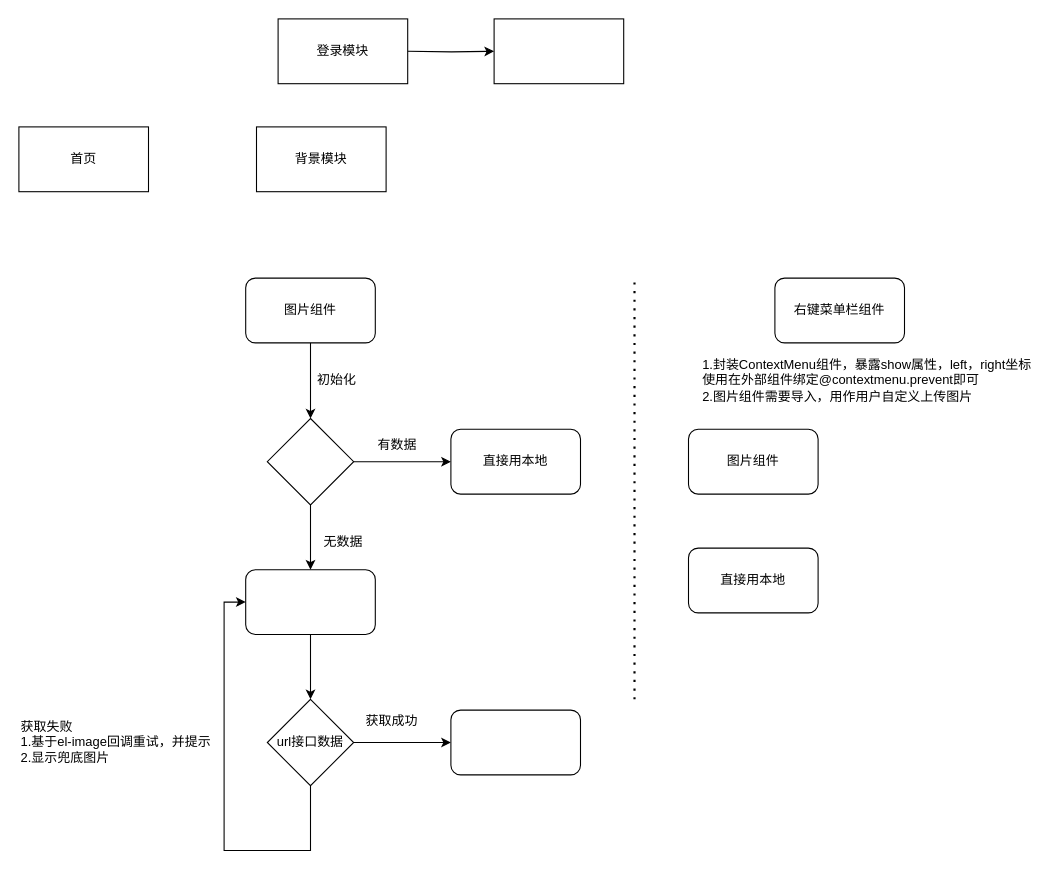
Some shapes in this 1064 by 878 pixel diagram are drawn without their labels. The centre of each missing label's shape, as x and y in pixels:
1.添加加载动画 2.基于el-image渲染: the point at 515,742
发送请求 获取背景图片: the point at 558,51
和llocalstorage要: the point at 310,461
请求接口获取图片url: the point at 310,601
